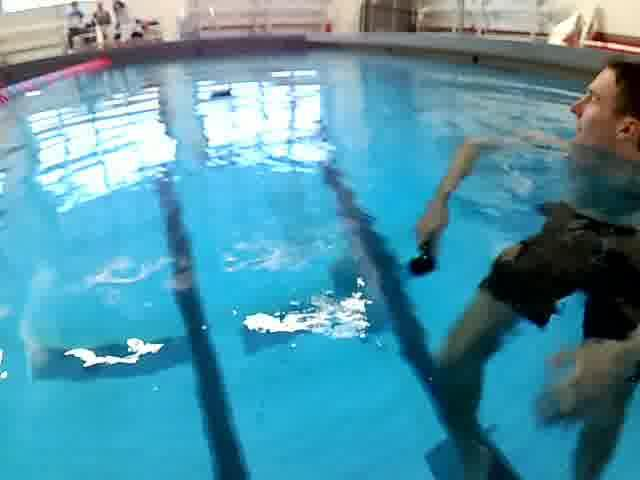CamMount: (204, 84, 238, 106)
